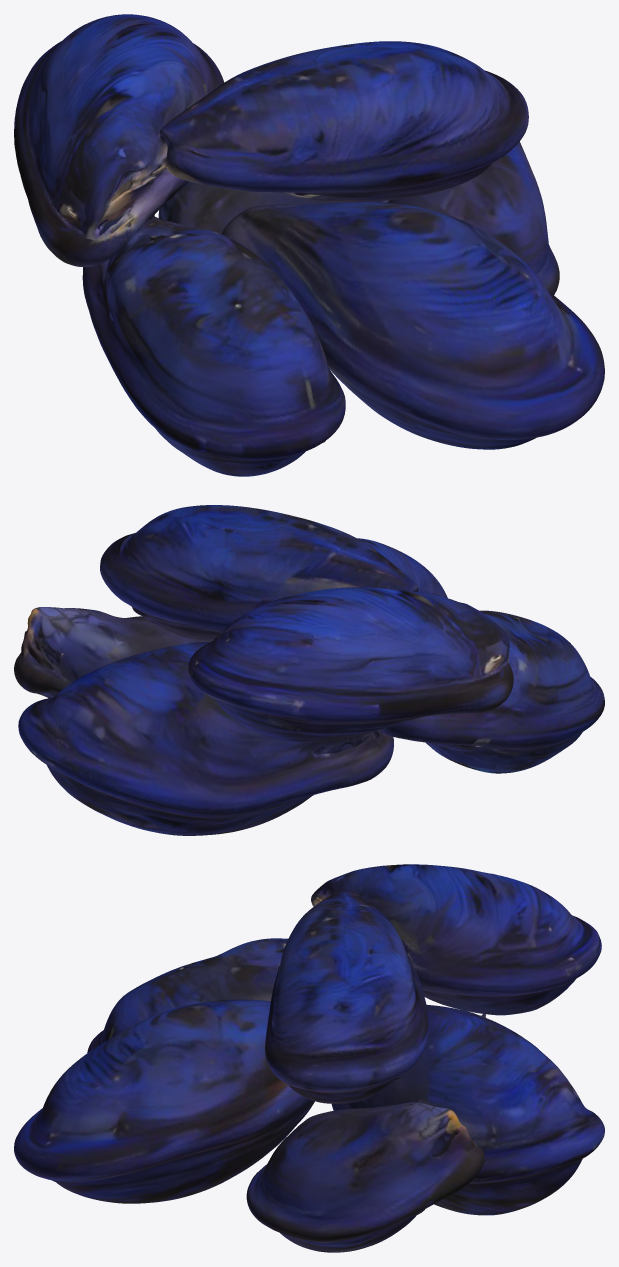
The model's file is mussels_hand_a.glb.
3 views of the same model, one above another, from view 1: azimuth 30°, elevation 25°; view 2: azimuth 150°, elevation 25°; view 3: azimuth 270°, elevation 25° (orthographic). The views are drawn at different scales.
Parts seen in each view (by area): view 1: tripo_node_de2410f5-05ed-44c1-af87-4835e3f957a2; view 2: tripo_node_de2410f5-05ed-44c1-af87-4835e3f957a2; view 3: tripo_node_de2410f5-05ed-44c1-af87-4835e3f957a2.
Part boxes in pixels (bbox=[...]): tripo_node_de2410f5-05ed-44c1-af87-4835e3f957a2: bbox=[14, 14, 604, 476]; tripo_node_de2410f5-05ed-44c1-af87-4835e3f957a2: bbox=[14, 505, 604, 835]; tripo_node_de2410f5-05ed-44c1-af87-4835e3f957a2: bbox=[14, 864, 604, 1252].
Bounding box in the file's own units: 0.8402 × 0.4917 × 0.9999.
Materials: 1 (1 with a texture image).
